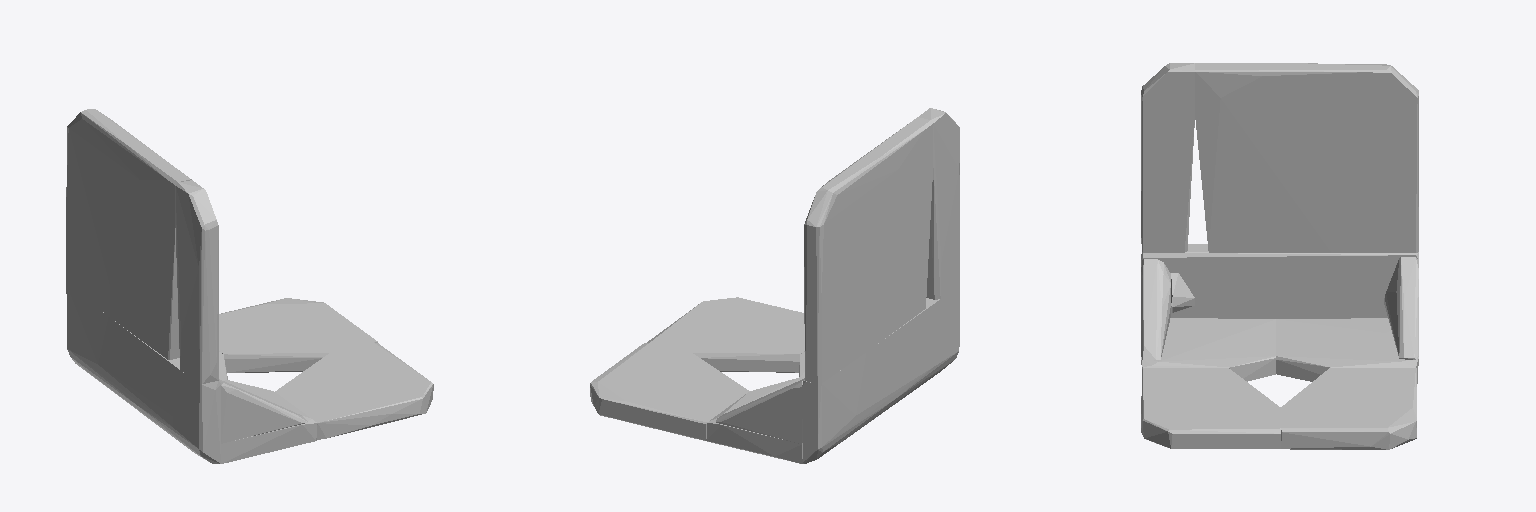
File: nema17_holder2_vhacd.obj
3 views of the same model, side by side, from view 1: azimuth 30°, elevation 25°; view 2: azimuth 150°, elevation 25°; view 3: azimuth 270°, elevation 25° (orthographic).
Visible parts, largest first — view 1: convex_1, convex_0, convex_4, convex_3, convex_2, convex_9, convex_7; view 2: convex_1, convex_0, convex_3, convex_4, convex_2, convex_6, convex_5; view 3: convex_1, convex_0, convex_4, convex_3, convex_2, convex_5, convex_7, convex_6, convex_9, convex_8.
Boxes of the visible parts, box(x1,y1,x2,y2) form: convex_1: box(66, 109, 191, 359); convex_0: box(66, 284, 220, 463); convex_4: box(275, 342, 433, 439); convex_3: box(219, 298, 377, 372); convex_2: box(175, 180, 218, 384); convex_9: box(219, 379, 307, 443); convex_7: box(221, 380, 317, 463); convex_1: box(804, 117, 932, 383); convex_0: box(802, 285, 959, 463); convex_3: box(590, 343, 749, 440); convex_4: box(647, 297, 804, 372); convex_2: box(919, 108, 959, 299); convex_6: box(716, 378, 804, 443); convex_5: box(706, 377, 803, 463); convex_1: box(1195, 63, 1418, 252); convex_0: box(1141, 244, 1418, 318); convex_4: box(1141, 368, 1280, 448); convex_3: box(1281, 368, 1416, 449); convex_2: box(1141, 63, 1194, 252); convex_5: box(1276, 318, 1418, 383); convex_7: box(1141, 318, 1275, 381); convex_6: box(1384, 257, 1418, 359); convex_9: box(1141, 259, 1170, 359); convex_8: box(1171, 273, 1194, 312).
Bounding box in the file's own units: 0.0519 × 0.0535 × 0.0502.